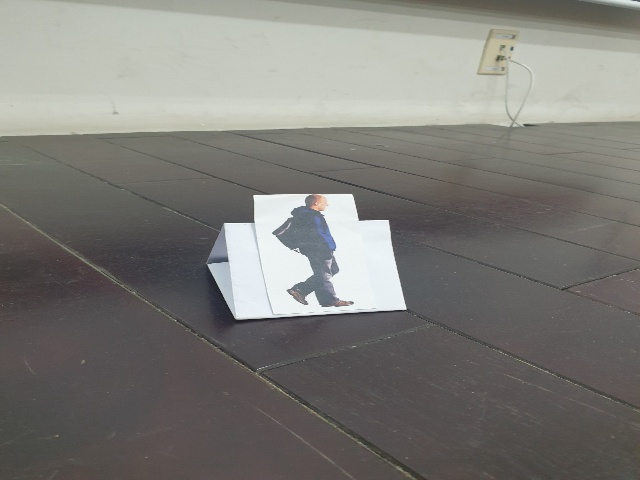Person: (264, 196, 356, 313)
